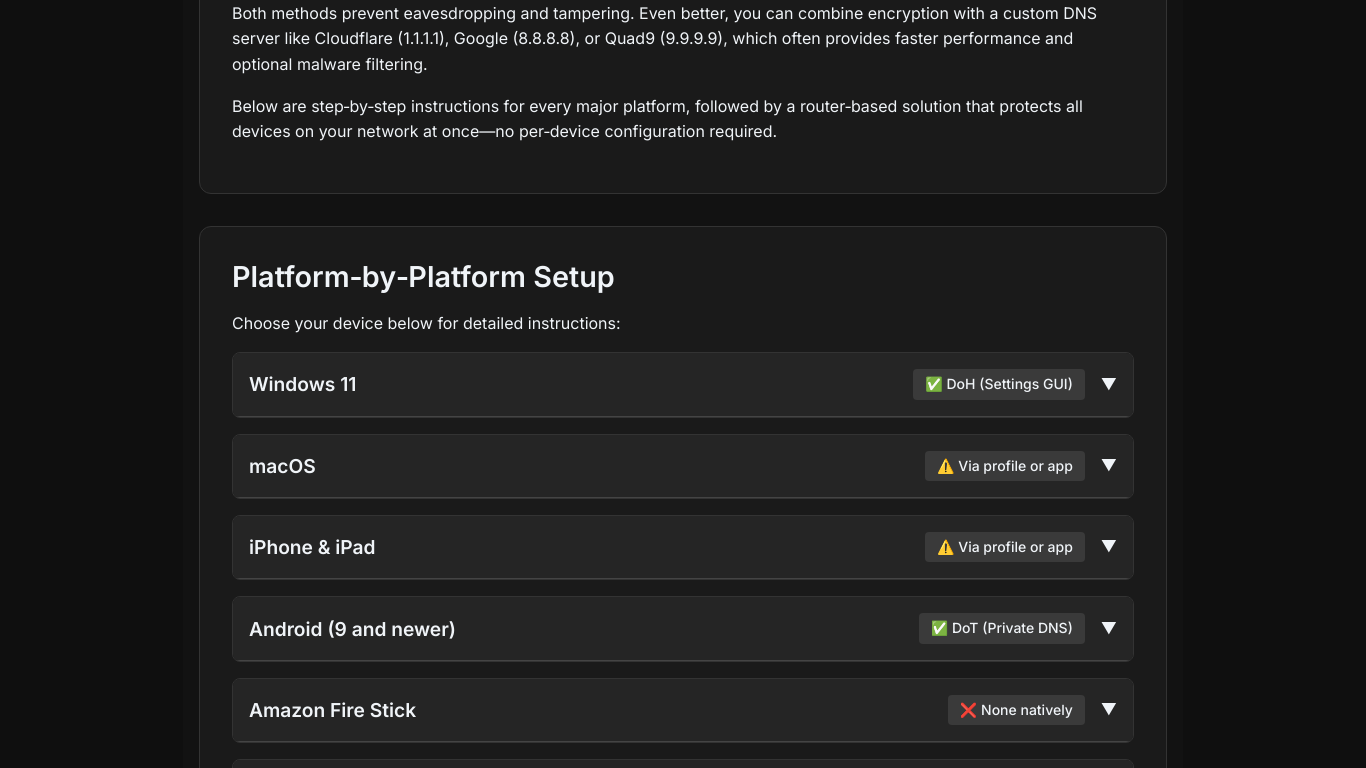
it: dns-guide.jsx › expands Windows 11 card on click and shows steps
The width and height of the screenshot is (1366, 768).
(page scrolled)
Click the heading "Windows 11" at (303, 384), box [249,372,356,396]
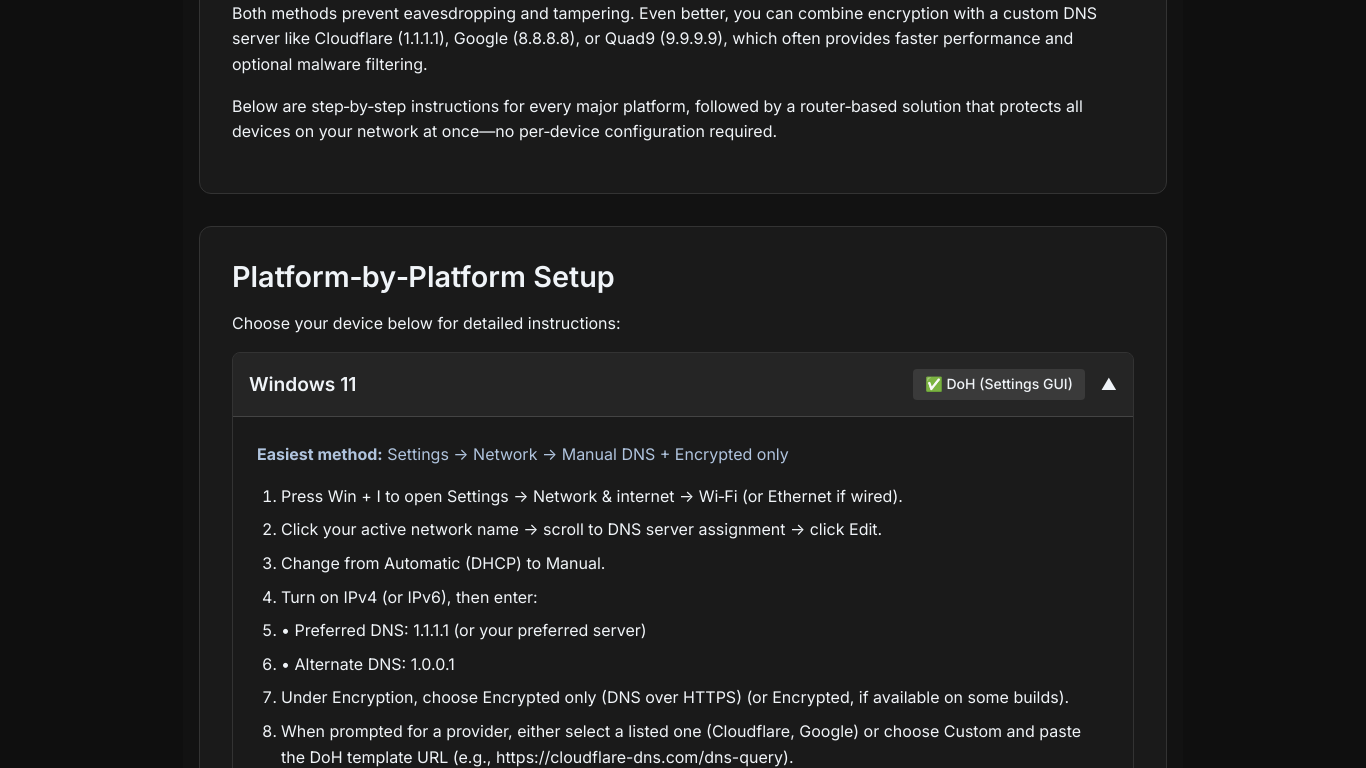
Check: the text "Settings → Network → Manual DNS" is shown, box [387,444,789,464]
